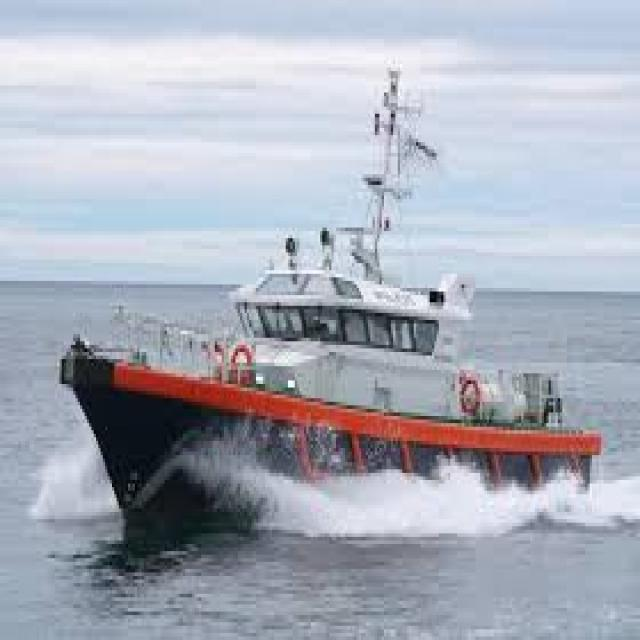houseboat: (56, 71, 587, 541)
